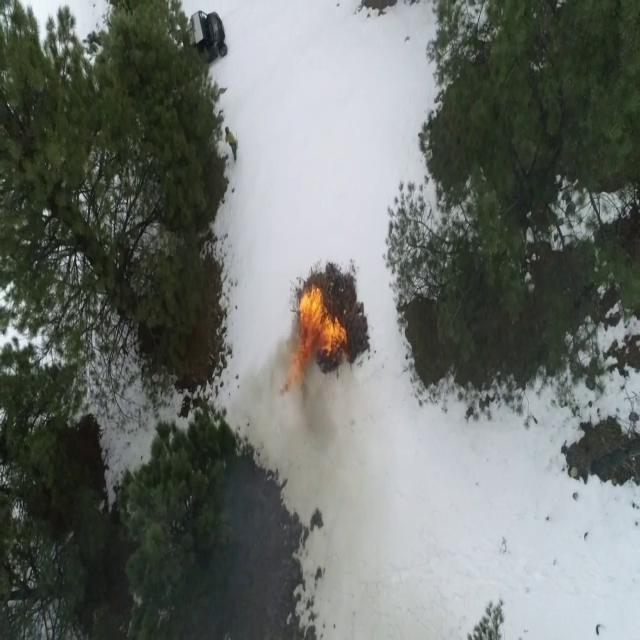fire: (290, 283, 346, 387)
